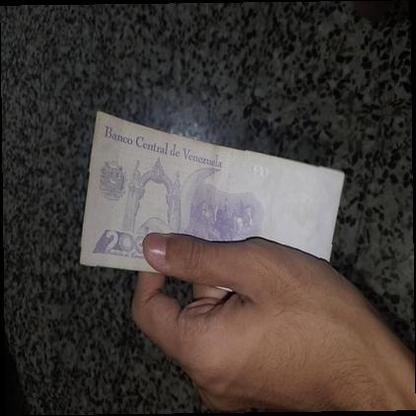ten-back-vef: (79, 112, 342, 294)
